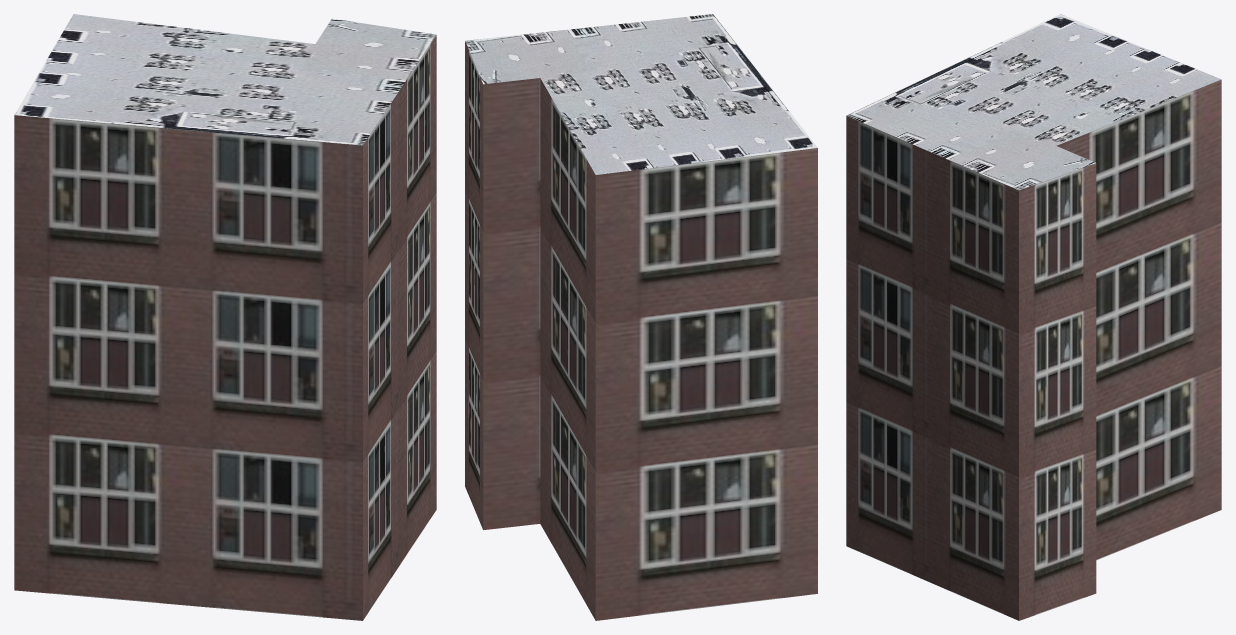
File: ResTex__2888.fbx
The picture shows the model from 3 angles, left to right: view 1: azimuth 30°, elevation 25°; view 2: azimuth 150°, elevation 25°; view 3: azimuth 270°, elevation 25°; orthographic projection. The views are drawn at different scales.
Parts seen in each view (by area): view 1: CityEngineMaterial_12_m, CityEngineMaterial_8_m; view 2: CityEngineMaterial_12_m, CityEngineMaterial_8_m; view 3: CityEngineMaterial_12_m, CityEngineMaterial_8_m.
Boxes of the visible parts, x1=… form: CityEngineMaterial_12_m: x1=14, y1=35, x2=436, y2=620; CityEngineMaterial_8_m: x1=14, y1=14, x2=435, y2=145; CityEngineMaterial_12_m: x1=465, y1=41, x2=817, y2=620; CityEngineMaterial_8_m: x1=465, y1=14, x2=817, y2=174; CityEngineMaterial_12_m: x1=846, y1=79, x2=1221, y2=620; CityEngineMaterial_8_m: x1=846, y1=14, x2=1221, y2=190.
Size of the model in its own units: 7.91 by 9 by 7.11.
2 materials, 2 textured.
